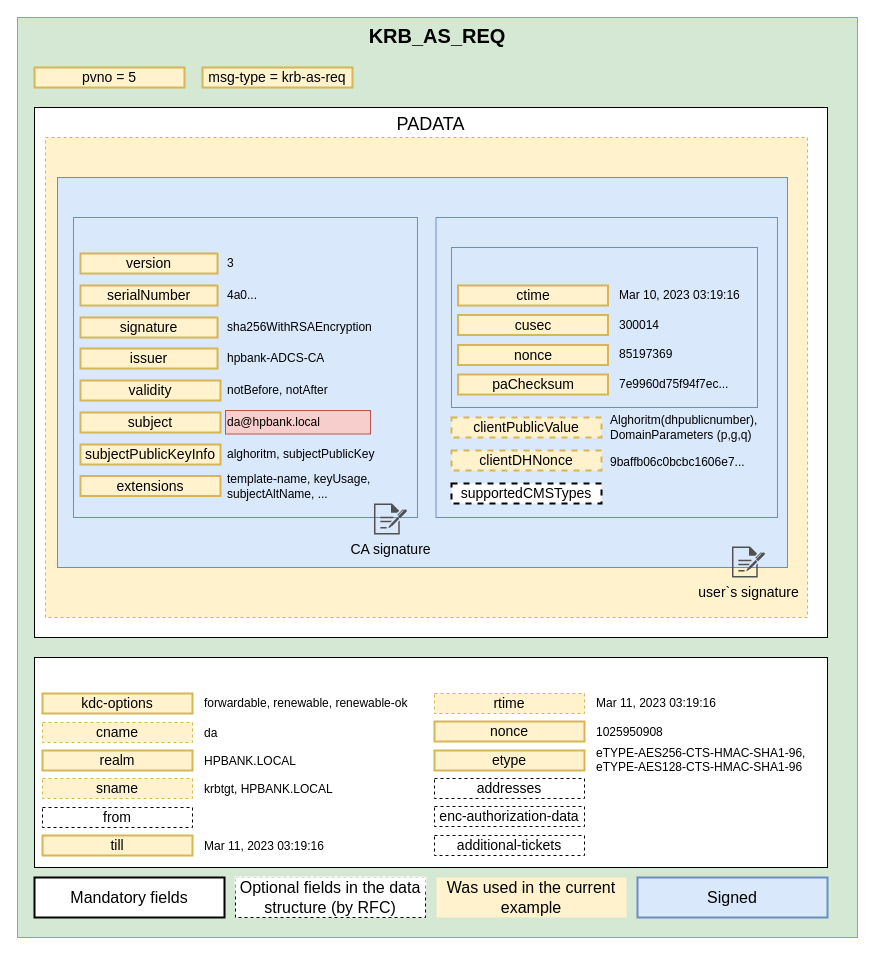
Some shapes in this 875 by 955 pixel diagram are drawn without their labels. Each missing label, with the box of its shape:
AuthPack: (435, 216, 778, 518)
KDC-REQ-BODY: (34, 656, 828, 868)
PA-PK-AS-REQ: (44, 136, 808, 618)
pkAuthenticator: (450, 246, 758, 408)
signedAuthPack: (56, 176, 788, 568)
signedCertificate: (72, 216, 418, 518)
